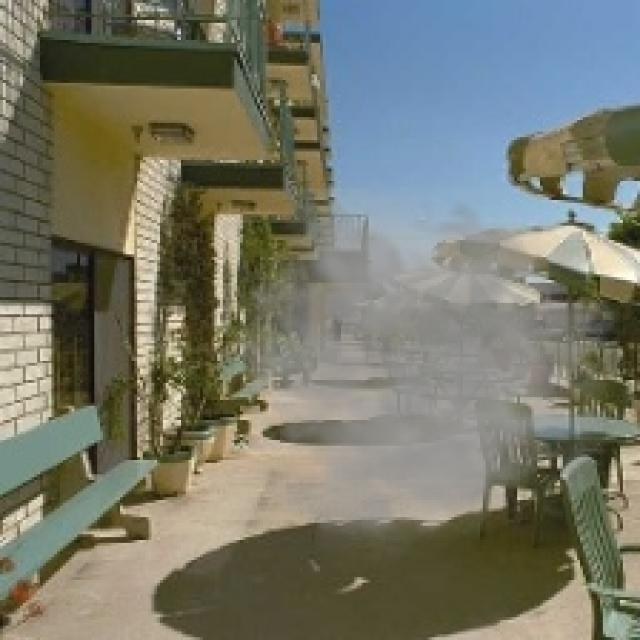smoke: (217, 189, 626, 574)
